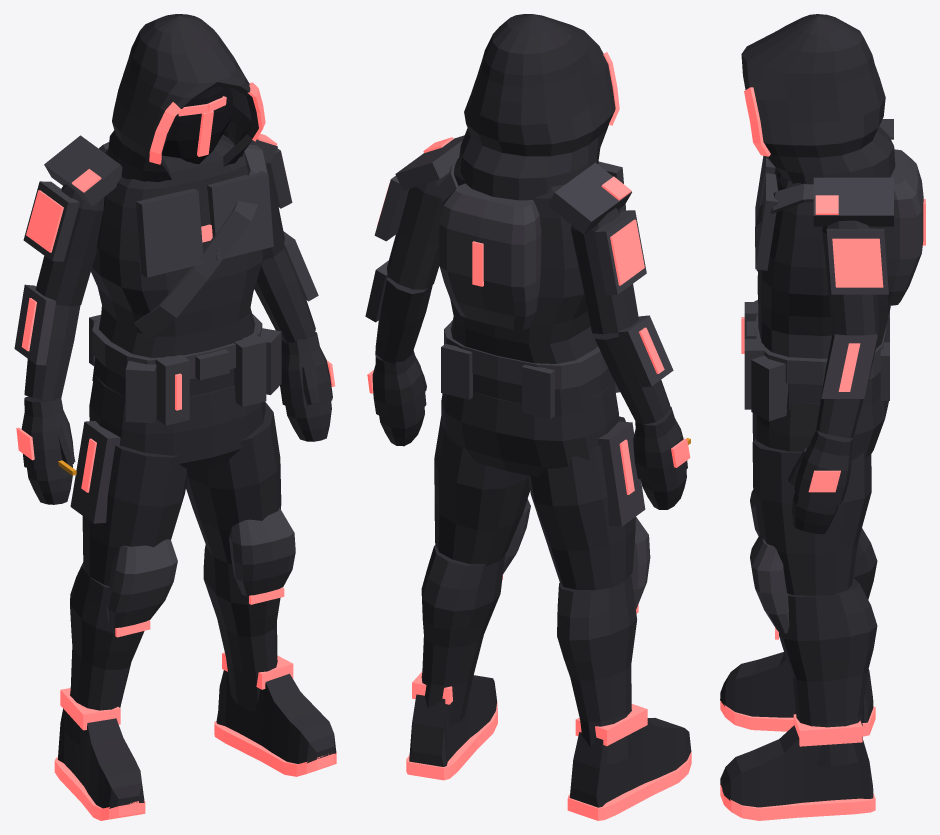
Rendered from seeker-hunter-preview.glb.
3 renders of one model, left to right at view 1: azimuth 30°, elevation 25°; view 2: azimuth 150°, elevation 25°; view 3: azimuth 270°, elevation 25°, orthographic.
Parts seen in each view (by area): view 1: torso, hood, sneaker.L, chest_plates, thigh.R, pelvis, sneaker.R, thigh.L, pouches, shin.R, shin.L, knee_plate.R (+20 smaller); view 2: hood, harness, torso, shin.R, pelvis, thigh.R, shin.L, sneaker.R, thigh.L, sneaker.L, upper_arm.L, upper_arm.R (+17 smaller); view 3: hood, shin.L, sneaker.L, torso, thigh.L, harness, sneaker.R, pouches, deltoid_plate.L, shoulder_plate.L, pelvis, glove.L (+9 smaller).
Boxes of the visible parts, left/top/right/bottom form: torso: left=91, top=134, right=265, bottom=404; hood: left=107, top=14, right=258, bottom=181; sneaker.L: left=214, top=652, right=336, bottom=776; chest_plates: left=136, top=171, right=273, bottom=277; thigh.R: left=82, top=445, right=188, bottom=585; pelvis: left=89, top=375, right=265, bottom=472; sneaker.R: left=54, top=688, right=145, bottom=820; thigh.L: left=186, top=402, right=281, bottom=563; pouches: left=89, top=314, right=281, bottom=425; shin.R: left=65, top=562, right=144, bottom=745; shin.L: left=203, top=545, right=280, bottom=711; knee_plate.R: left=106, top=539, right=177, bottom=637; hood: left=459, top=14, right=615, bottom=200; harness: left=436, top=163, right=541, bottom=330; torso: left=438, top=157, right=615, bottom=415; shin.R: left=557, top=575, right=637, bottom=764; pelvis: left=441, top=381, right=619, bottom=476; thigh.R: left=527, top=416, right=635, bottom=589; shin.L: left=421, top=545, right=505, bottom=725; sneaker.R: left=567, top=704, right=691, bottom=820; thigh.L: left=434, top=415, right=529, bottom=566; sneaker.L: left=406, top=671, right=497, bottom=780; upper_arm.L: left=387, top=180, right=443, bottom=289; upper_arm.R: left=571, top=208, right=638, bottom=334; hood: left=741, top=14, right=895, bottom=184; shin.L: left=779, top=578, right=877, bottom=766; sneaker.L: left=720, top=714, right=875, bottom=820; torso: left=757, top=168, right=890, bottom=409; thigh.L: left=752, top=439, right=871, bottom=595; harness: left=755, top=149, right=925, bottom=305; sneaker.R: left=720, top=652, right=875, bottom=736; pouches: left=741, top=300, right=889, bottom=421; deltoid_plate.L: left=826, top=228, right=888, bottom=294; shoulder_plate.L: left=813, top=177, right=893, bottom=226; pelvis: left=752, top=396, right=888, bottom=459; glove.L: left=794, top=429, right=853, bottom=505.
Bounding box in the file's own units: 0.9111 × 2.16 × 0.5378.
